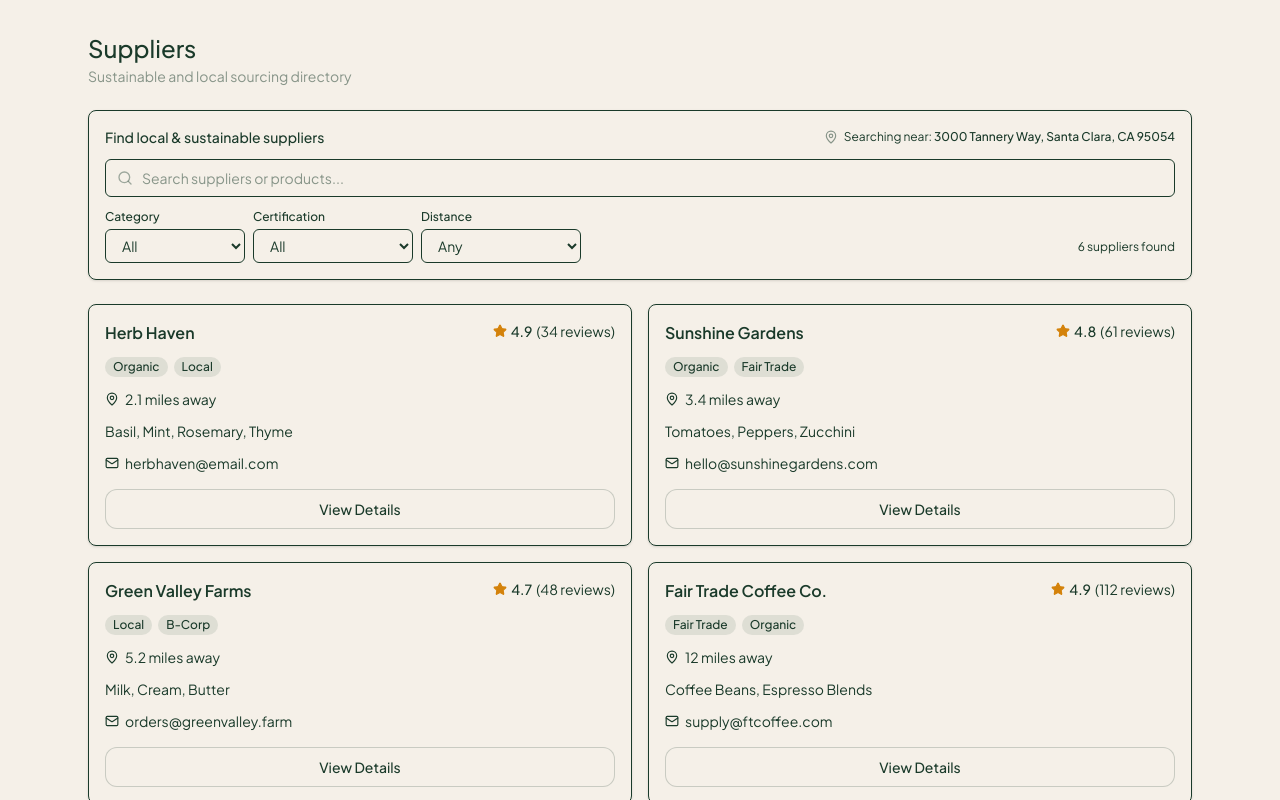
Test: when filtering by distance › removes suppliers beyond the selected distance limit
Select "Under 5 miles" in the dropdown below "Distance" at (501, 246), box [421,229,581,263]
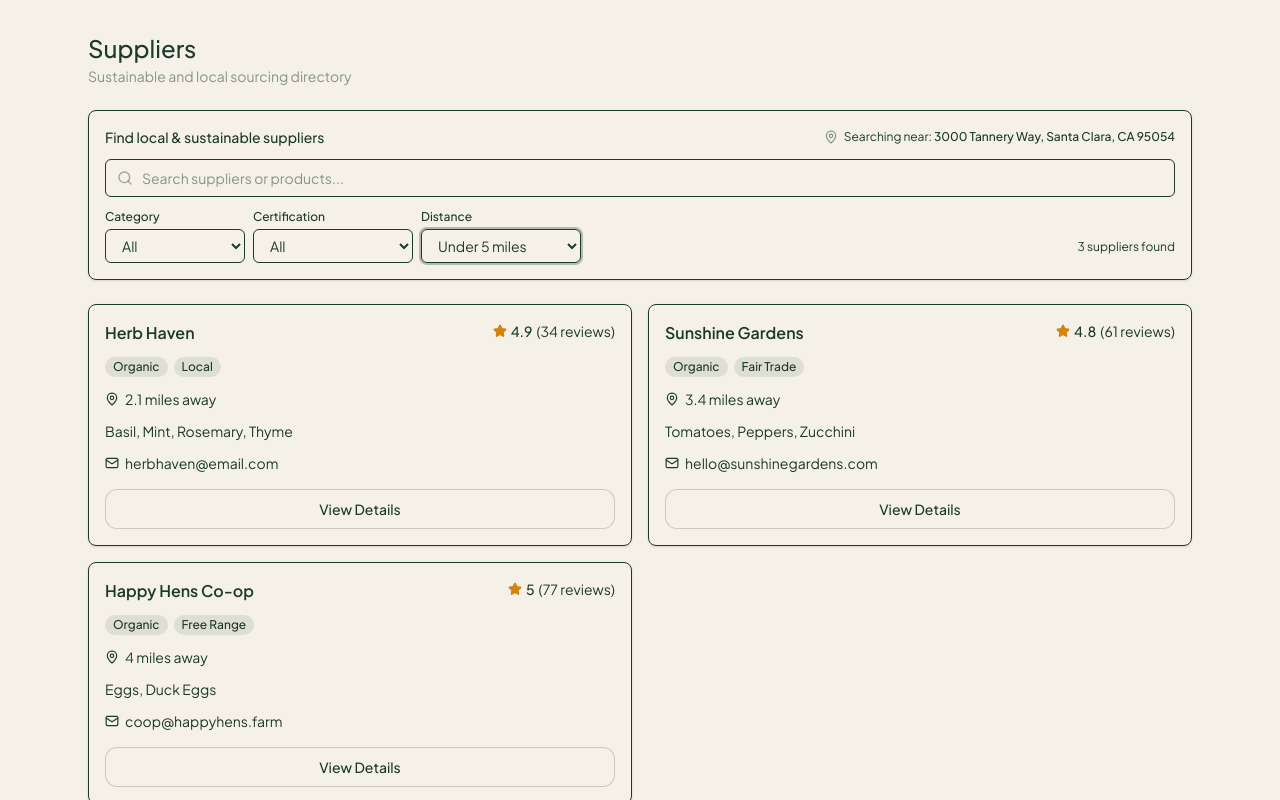
Now the heading "Fair Trade Coffee Co." is gone
